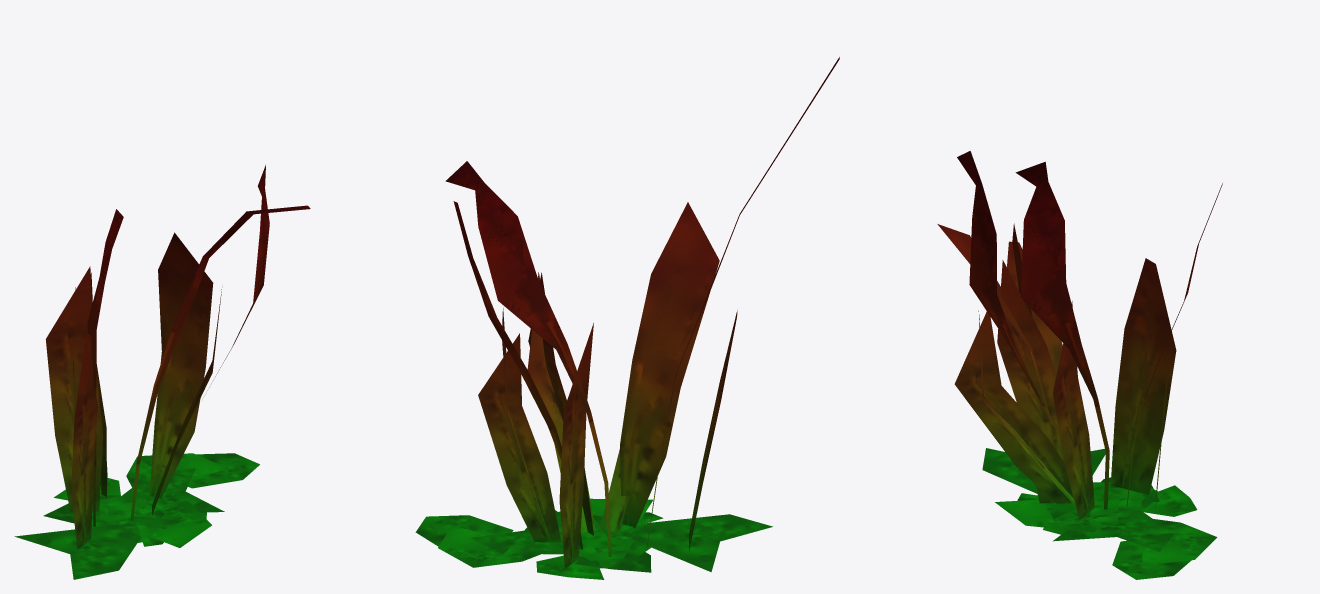
The model's file is Thatching Grass_LOD1_Var5_uddmcgbia.glb.
3 views of the same model, side by side, from view 1: azimuth 30°, elevation 25°; view 2: azimuth 150°, elevation 25°; view 3: azimuth 270°, elevation 25° (orthographic). The views are drawn at different scales.
Parts seen in each view (by area): view 1: _0e87_Var5_LOD1; view 2: _0e87_Var5_LOD1; view 3: _0e87_Var5_LOD1.
Part boxes in pixels (<box>): _0e87_Var5_LOD1: <box>14,165,310,579</box>; _0e87_Var5_LOD1: <box>415,57,839,579</box>; _0e87_Var5_LOD1: <box>937,151,1222,579</box>.
Size of the model in its own units: 0.2438 by 0.313 by 0.2686.
Materials: 1 (1 with a texture image).
